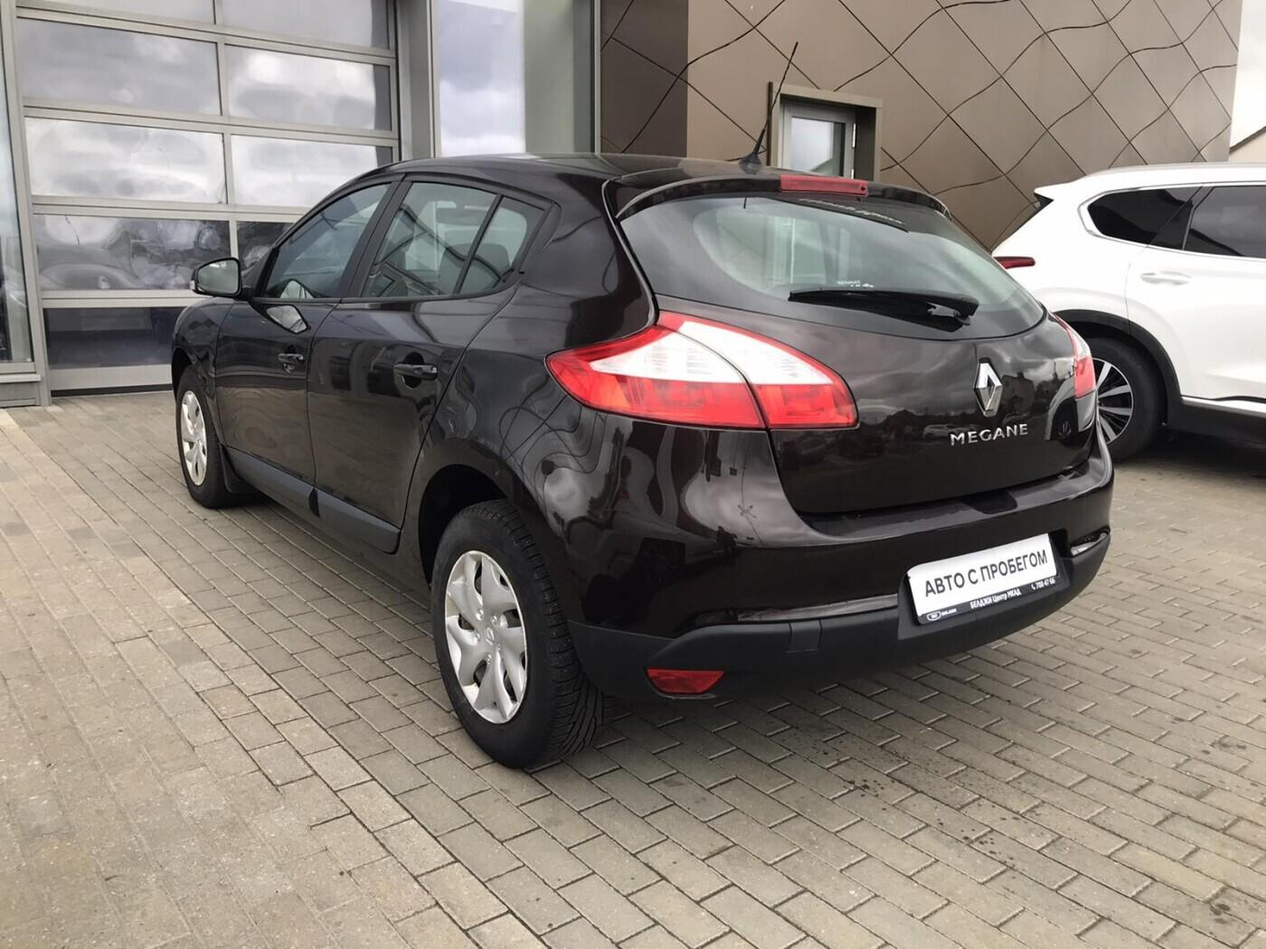Megane_2012-2014: (165, 142, 1117, 766)
